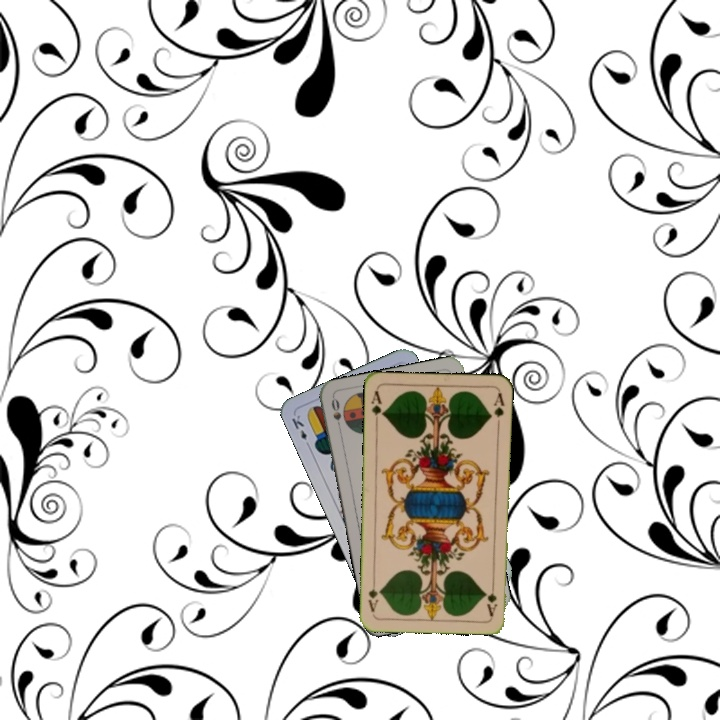EK: (287, 411, 313, 451)
GA: (367, 387, 387, 427), (484, 578, 500, 618)
SO: (327, 394, 344, 435)
